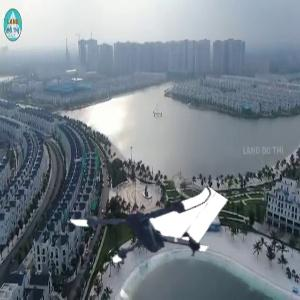drone: (75, 157, 212, 294)
